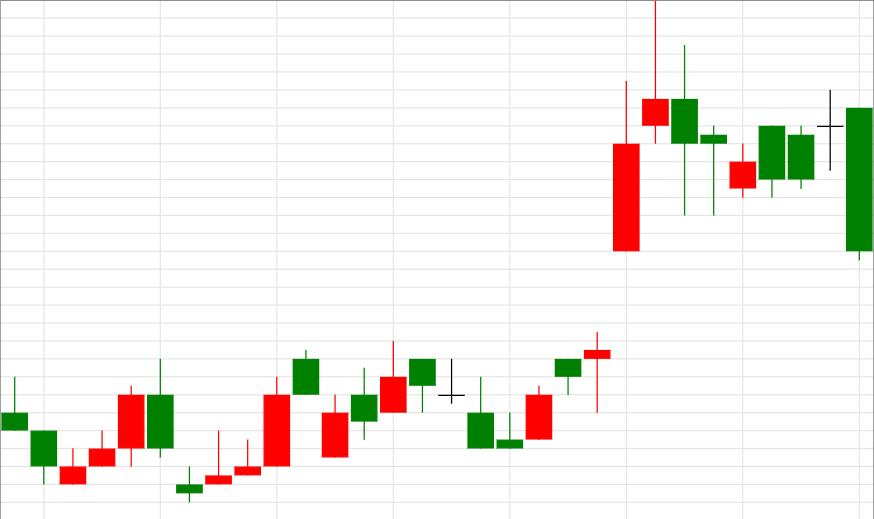shooting_star_fall: (497, 2, 669, 448)
